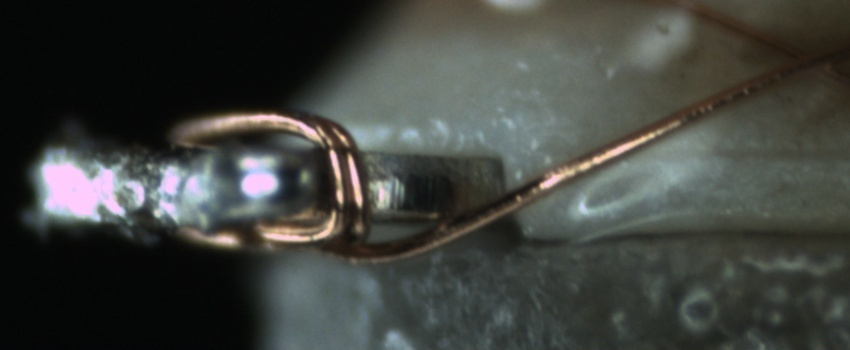CL: (764, 34, 842, 85)
DL: (666, 123, 850, 180)
TE: (165, 91, 374, 252)
